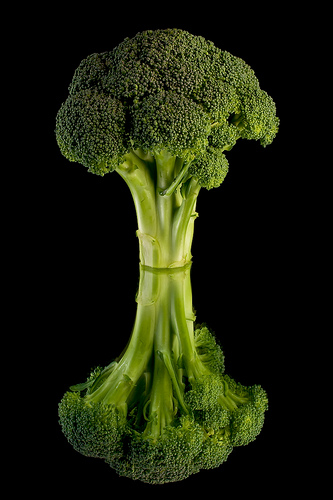broccoli: (52, 27, 282, 268)
